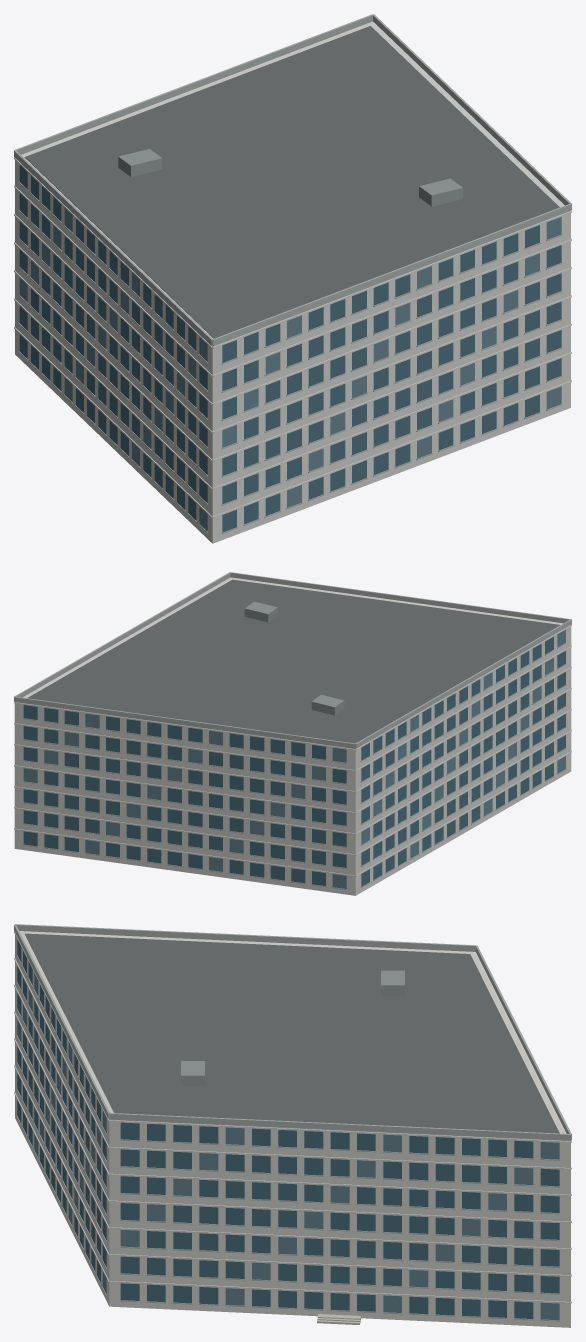
File: 东侧办公园区-015.glb
3 views of the same model, one above another, from view 1: azimuth 30°, elevation 25°; view 2: azimuth 150°, elevation 25°; view 3: azimuth 270°, elevation 25° (orthographic). The views are drawn at different scales.
Parts seen in each view (by area): view 1: 东侧办公园区-015; view 2: 东侧办公园区-015; view 3: 东侧办公园区-015.
Part boxes in pixels (bbox=[...]): 东侧办公园区-015: bbox=[14, 14, 571, 543]; 东侧办公园区-015: bbox=[14, 572, 571, 895]; 东侧办公园区-015: bbox=[14, 924, 571, 1327].
Bounding box in the file's own units: 57.88 × 25.42 × 64.71.
